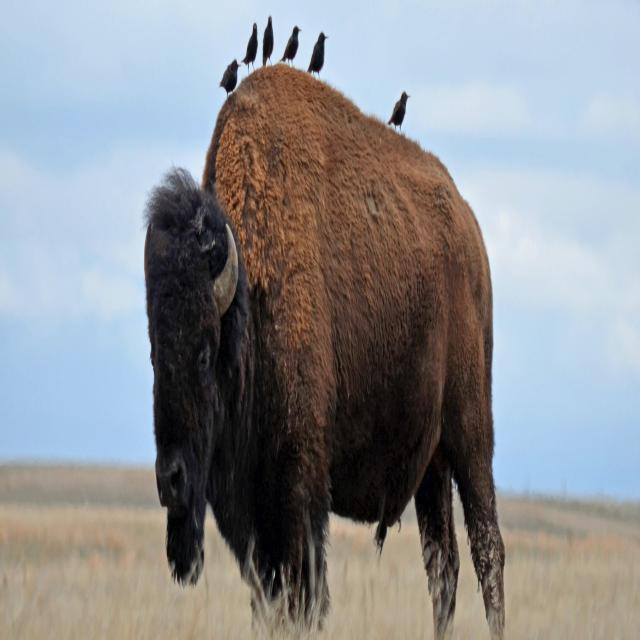bison: (144, 63, 505, 640)
